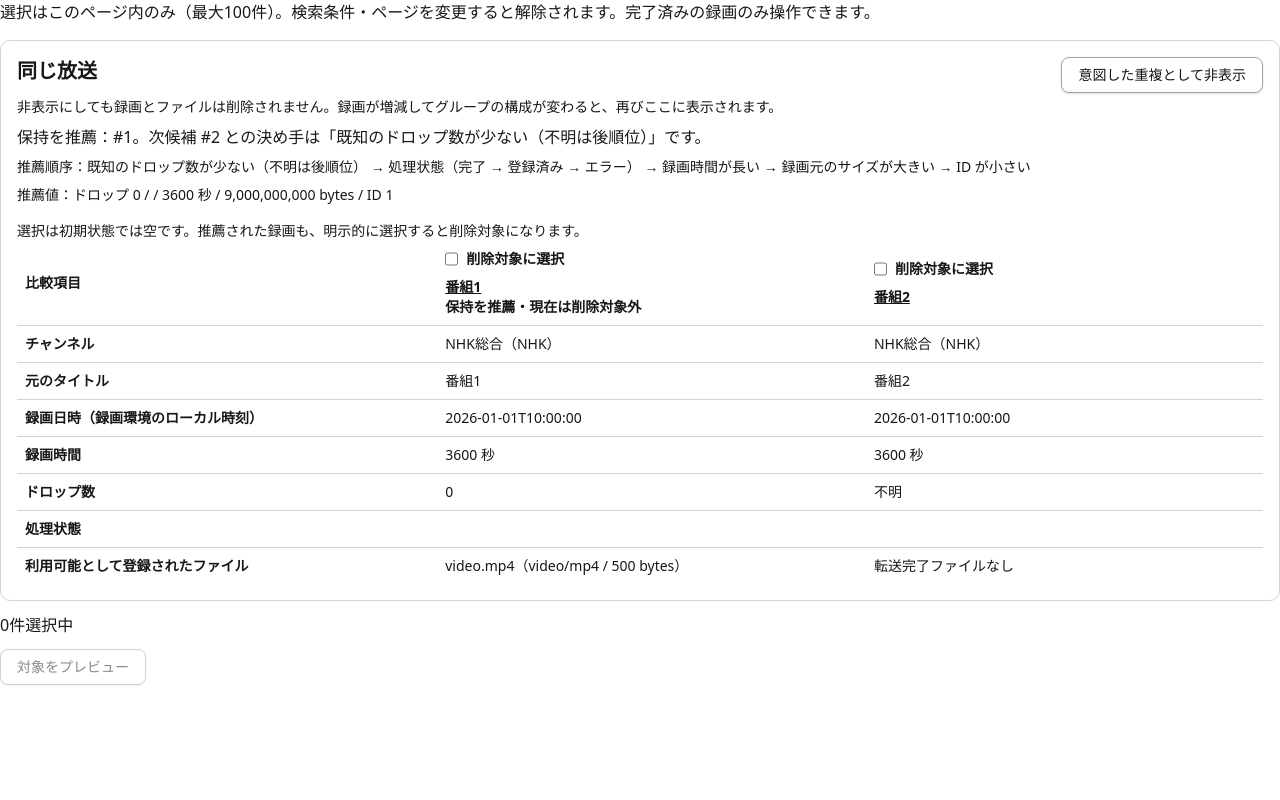
Test: DuplicateReviewPanel › previews through the guarded duplicate API with the whole group, shows kept copies, cancels and applies explicitly
The image size is (1280, 800).
Click the checkbox named "削除対象に選択 #2".
click(880, 269)  # box [874,259,887,279]
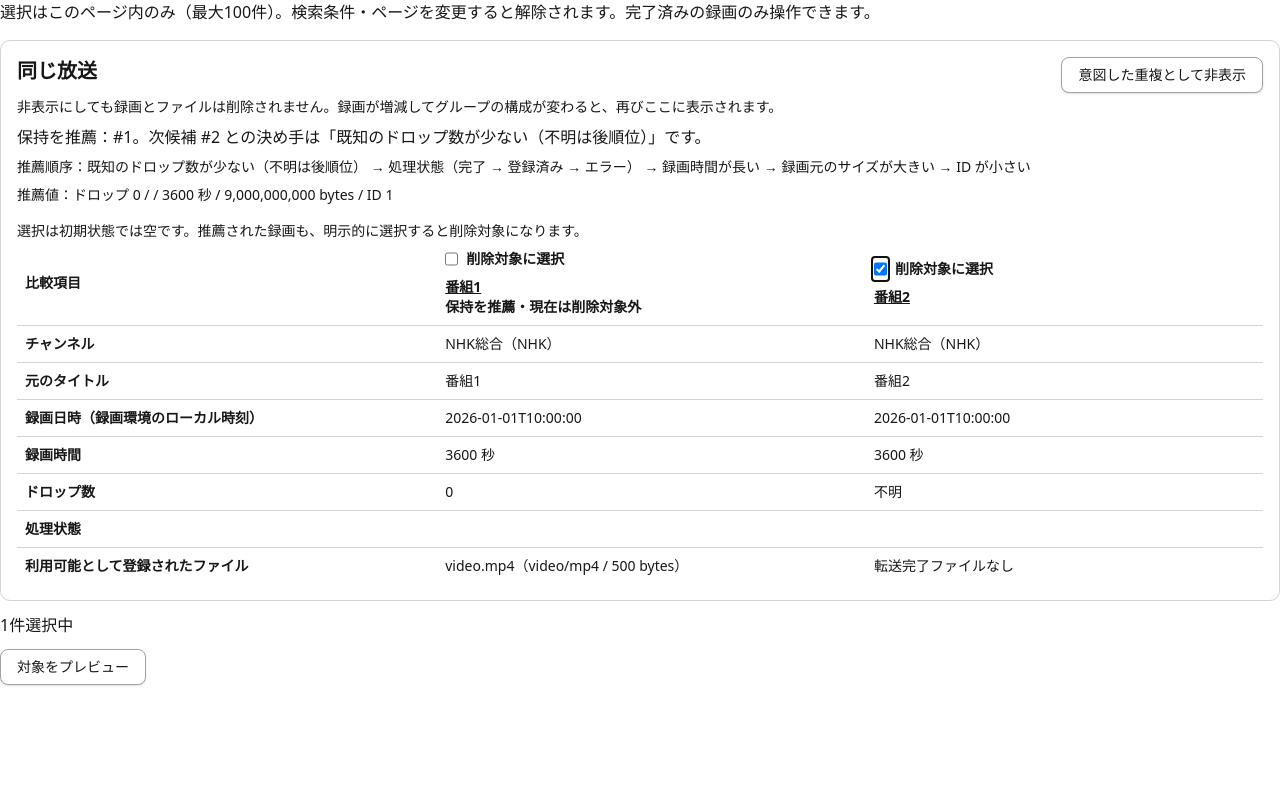
Click the button "対象をプレビュー".
click(73, 667)  # box [0,649,146,685]
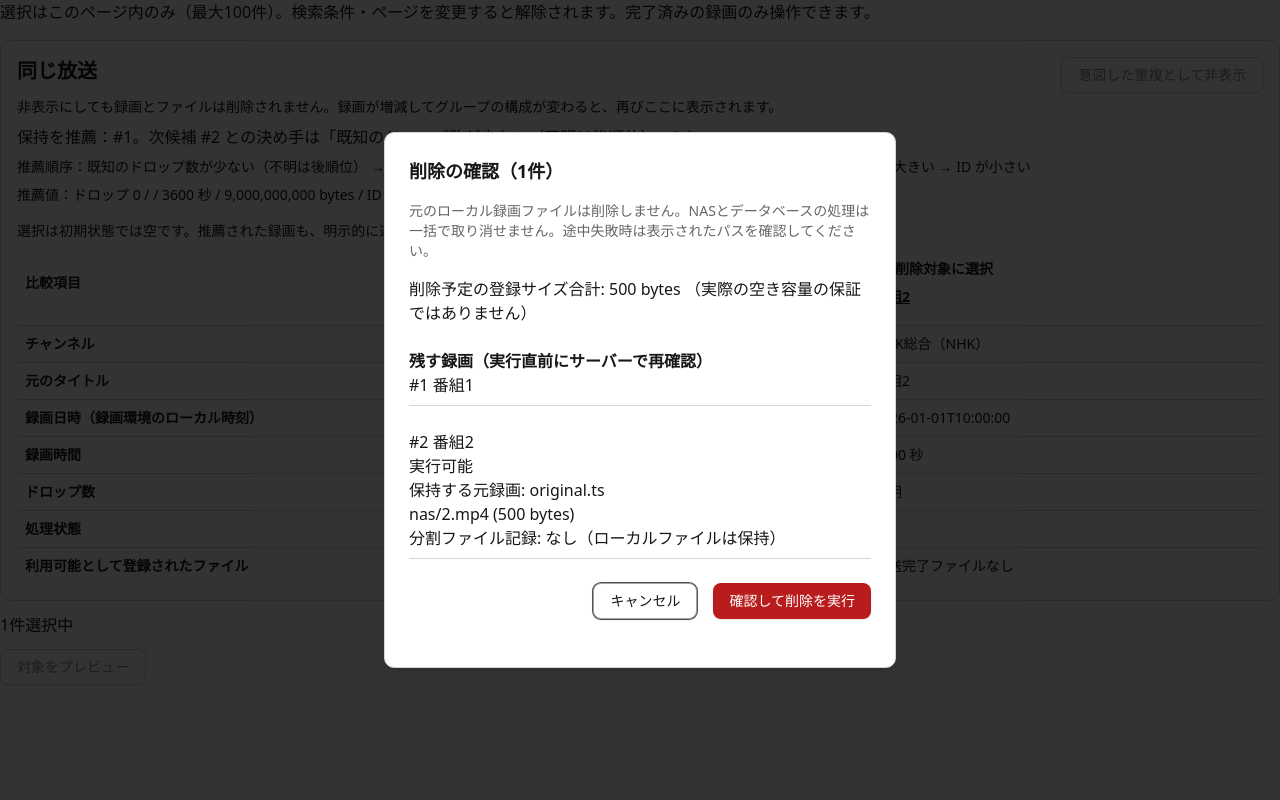
Expected: the text "保持する元録画: original.ts" is shown, [409,479,605,501]
Expected: the heading "残す録画（実行直前にサーバーで再確認）" is shown, [409,350,712,372]
Expected: the list item "#1 番組1" is shown, [409,374,474,396]
Click the button "キャンセル".
click(645, 601)  # box [593,583,697,619]
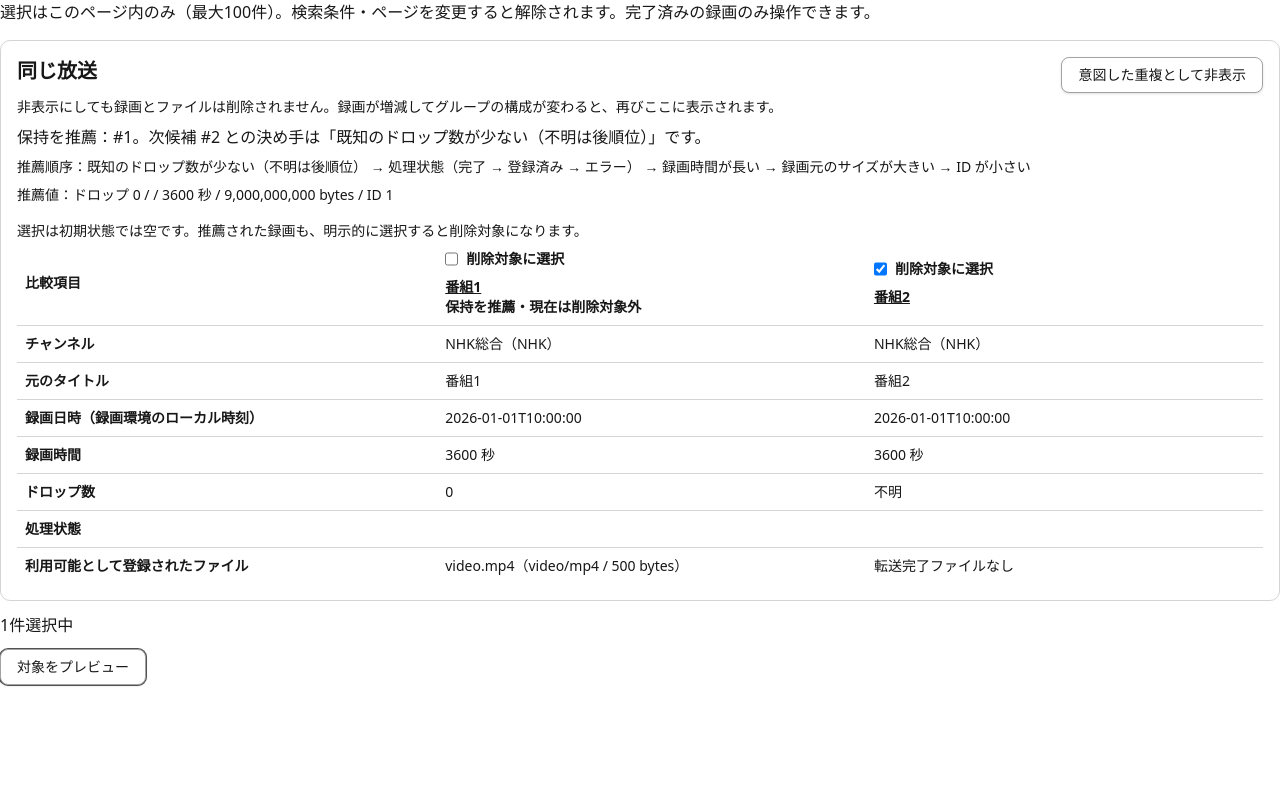
Expected: the button "確認して削除を実行" is gone
Click the button "対象をプレビュー".
click(73, 667)  # box [0,649,146,685]
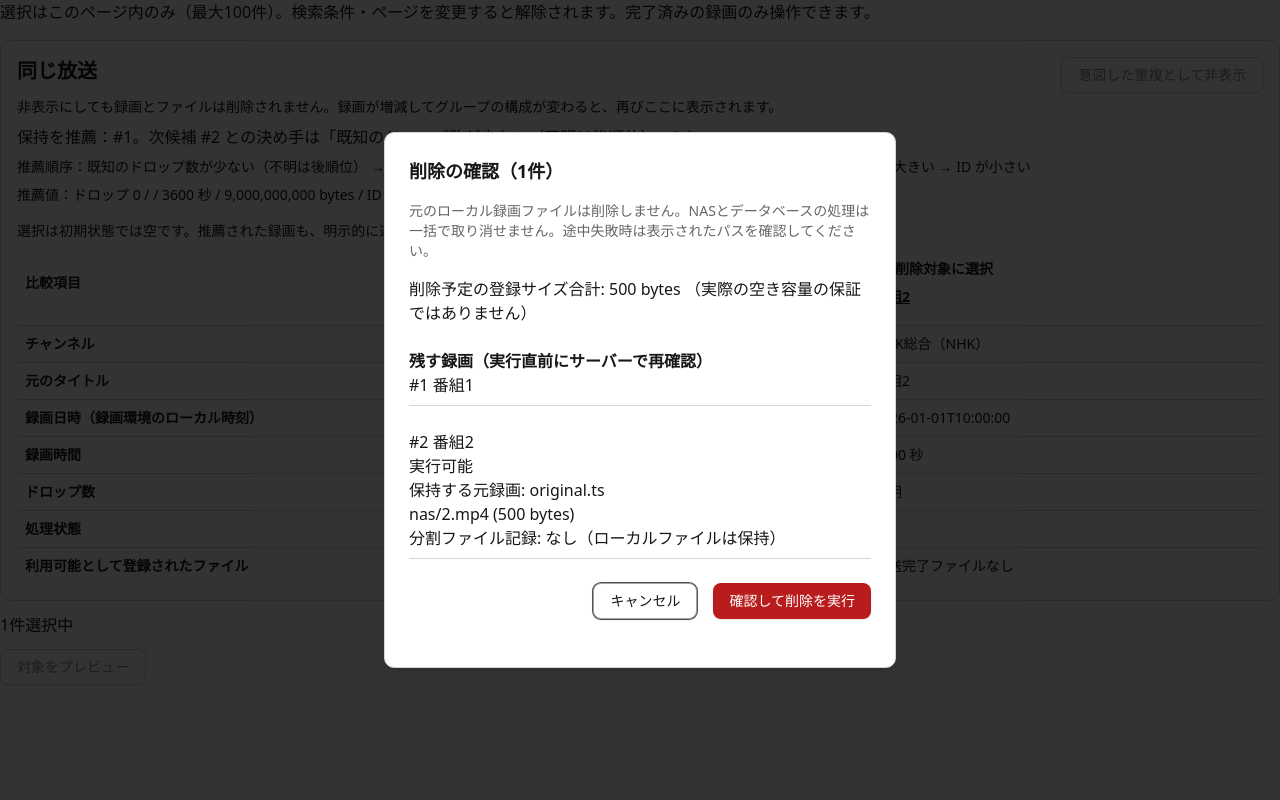
Click the button "確認して削除を実行".
click(792, 601)  # box [713,583,871,619]
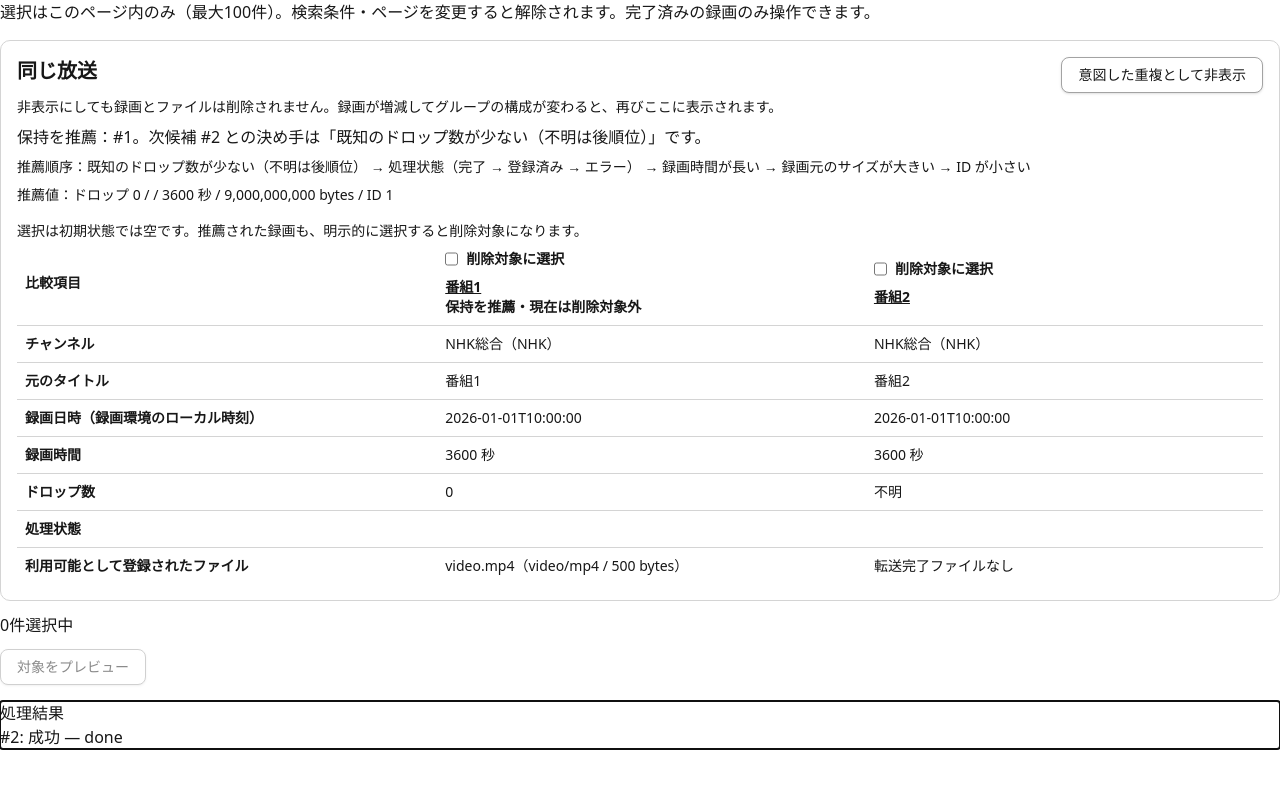
Expected: the list item "#2: 成功 — done" is shown, [0,726,123,748]
